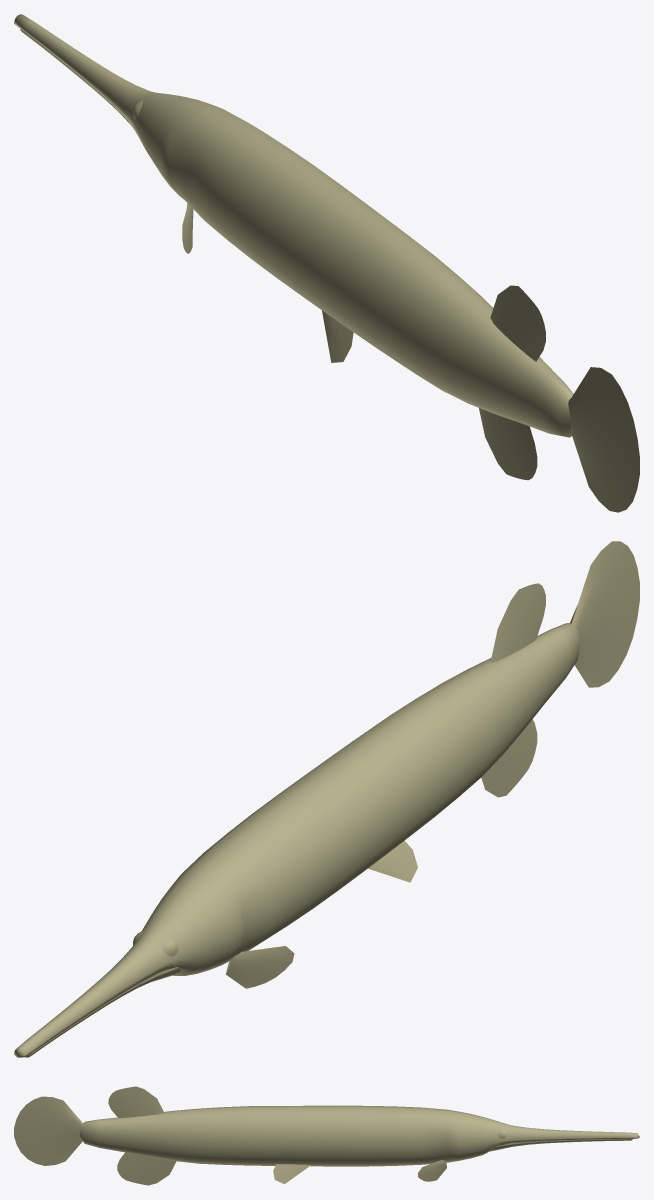
File: gar_game.glb
3 renders of one model, top to bottom at view 1: azimuth 30°, elevation 25°; view 2: azimuth 150°, elevation 25°; view 3: azimuth 270°, elevation 25°, orthographic. The views are drawn at different scales.
Parts seen in each view (by area): view 1: gar_game; view 2: gar_game; view 3: gar_game.
Boxes of the visible parts, x1=… form: gar_game: x1=14, y1=14, x2=639, y2=512; gar_game: x1=14, y1=541, x2=639, y2=1057; gar_game: x1=14, y1=1086, x2=639, y2=1185.
Size of the model in its own units: 0.1346 by 0.2258 by 1.29.
